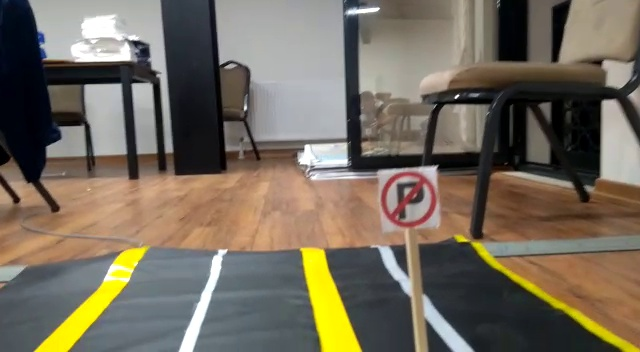park_yapilmaz: (379, 170, 437, 226)
